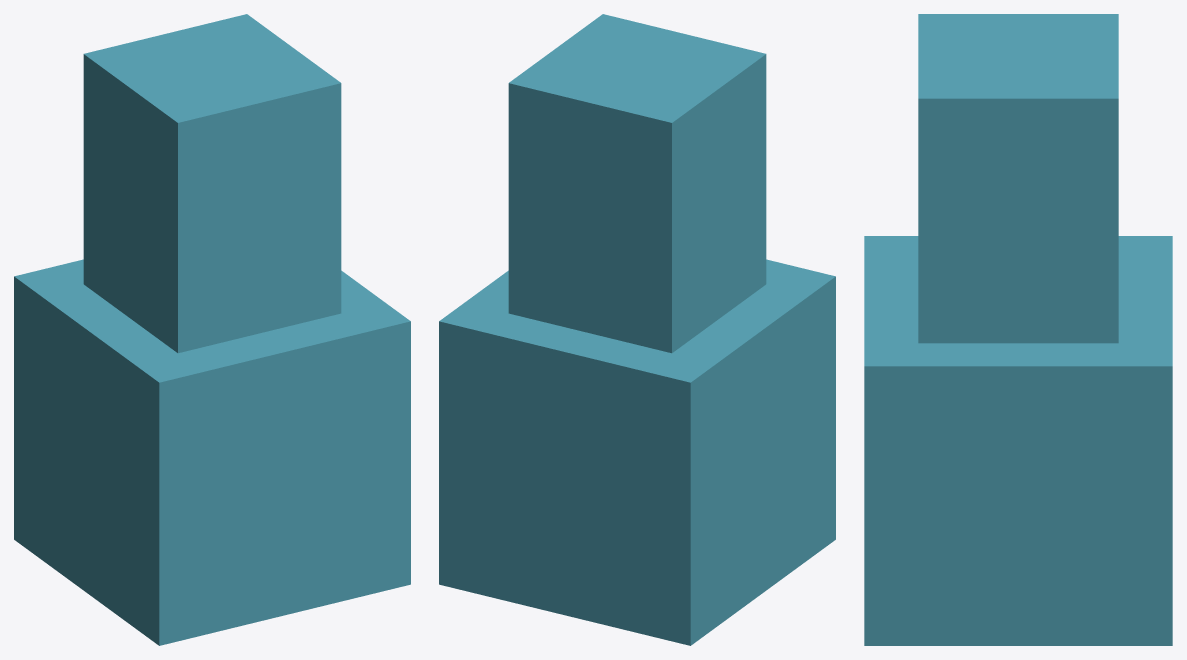
The model's file is conductor.obj.
3 views of the same model, side by side, from view 1: azimuth 30°, elevation 25°; view 2: azimuth 150°, elevation 25°; view 3: azimuth 270°, elevation 25° (orthographic). The views are drawn at different scales.
Visible parts, largest first — view 1: conductor; view 2: conductor; view 3: conductor.
Part boxes in pixels (x1=…): conductor: x1=14, y1=14, x2=410, y2=645; conductor: x1=439, y1=14, x2=835, y2=645; conductor: x1=864, y1=14, x2=1172, y2=645.
Bounding box in the file's own units: 0.4 × 0.75 × 0.4.
